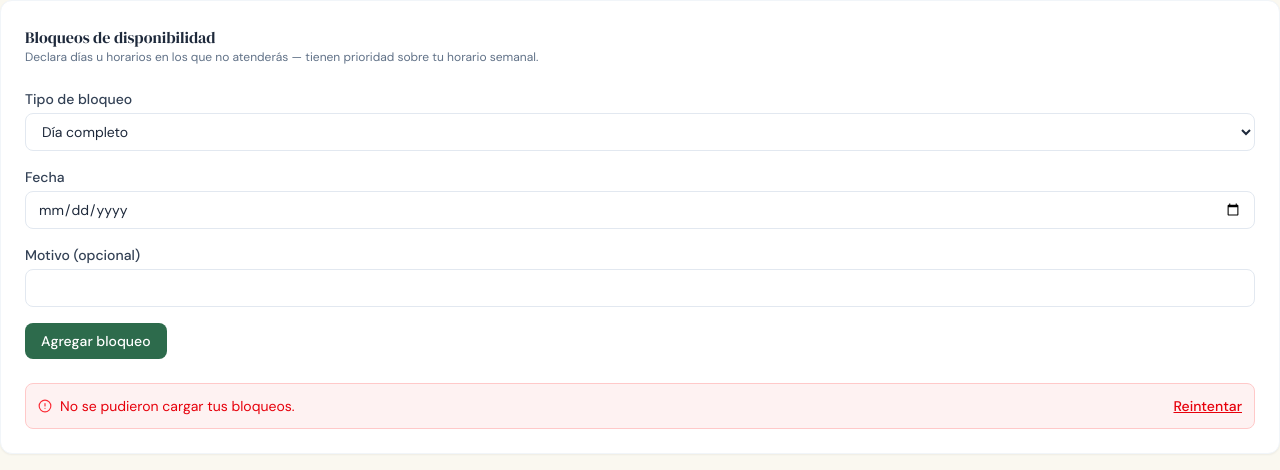
Test: BlockoutEditor — therapist-availability Req: Availability Blockouts › si falla el listado muestra el error con reintento y no "Sin bloqueos registrados."
This screenshot has width=1280, height=470.
Expected: the text "No se pudieron cargar tus bloqueos." is shown, [60,396,294,416]
Expected: the text "Sin bloqueos registrados." is not shown
Click the button "Reintentar" at {"x": 1208, "y": 406}, box [1174,396,1242,416]
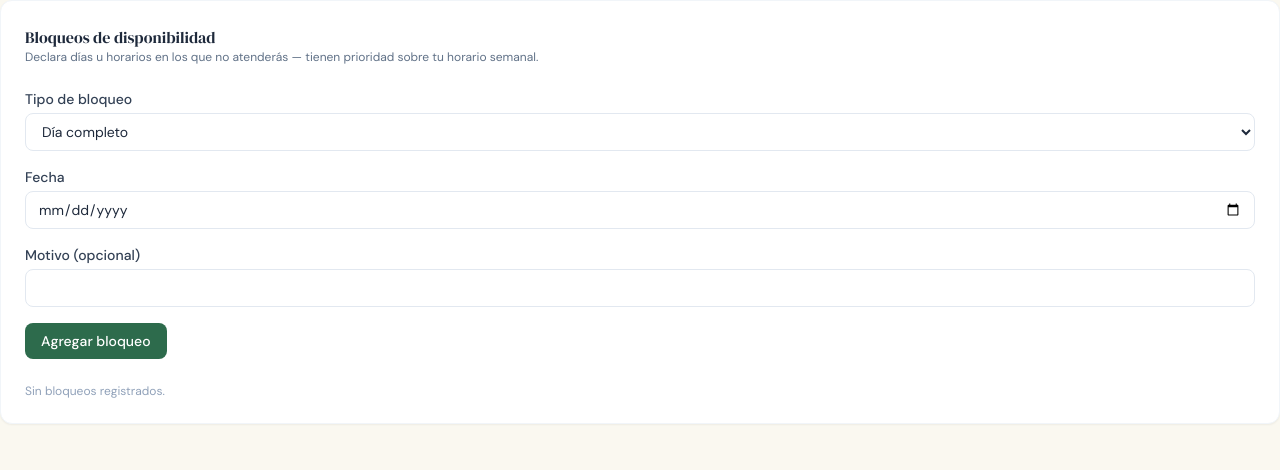
Result: the text "Sin bloqueos registrados." is shown at [25,383,165,399]
